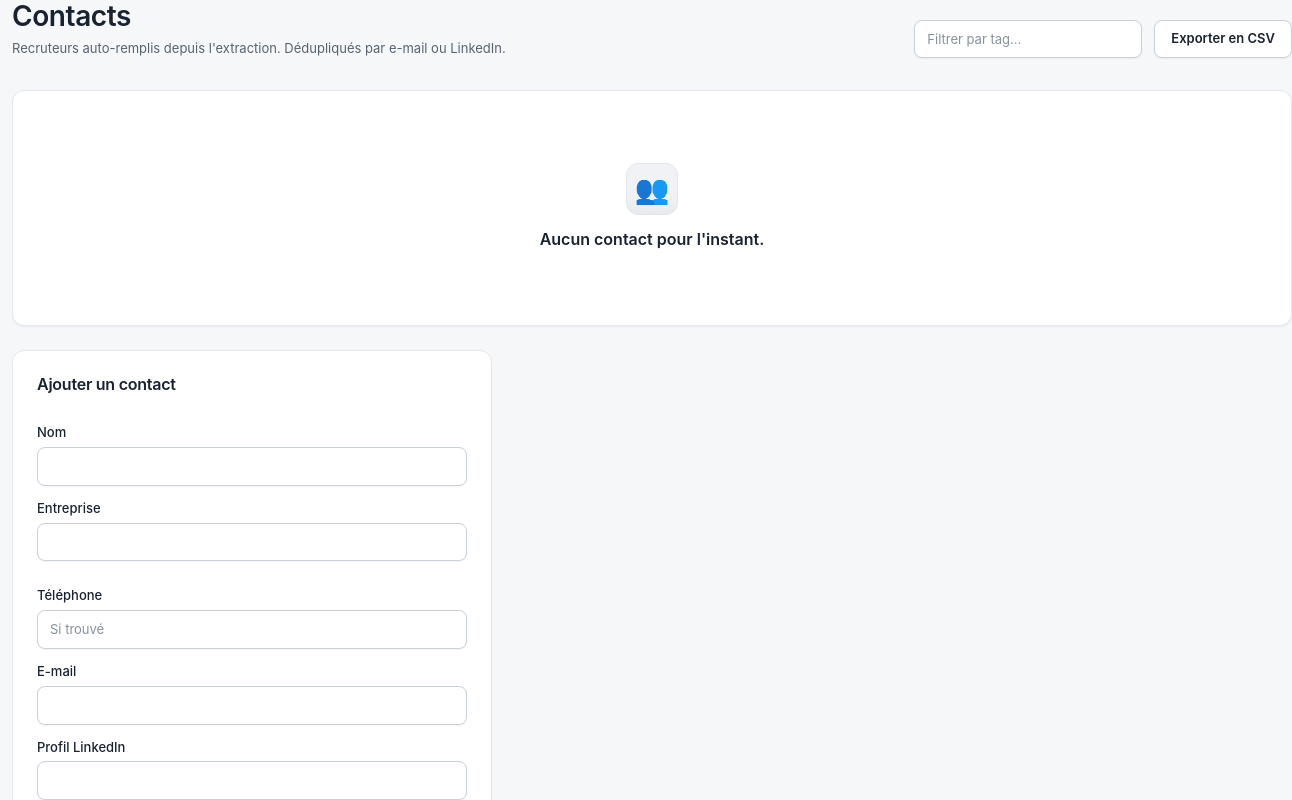
Test: ContactsPage › shows a merge confirmation when adding a contact upserts an existing one
The width and height of the screenshot is (1292, 800).
Expected: the text "Aucun contact pour l'instant." is shown, 540,227 -> 764,253
Step 1. Type "Jane Doe" into the field labelled "Nom" → (252, 466), box 37,447 -> 467,486
(page scrolled)
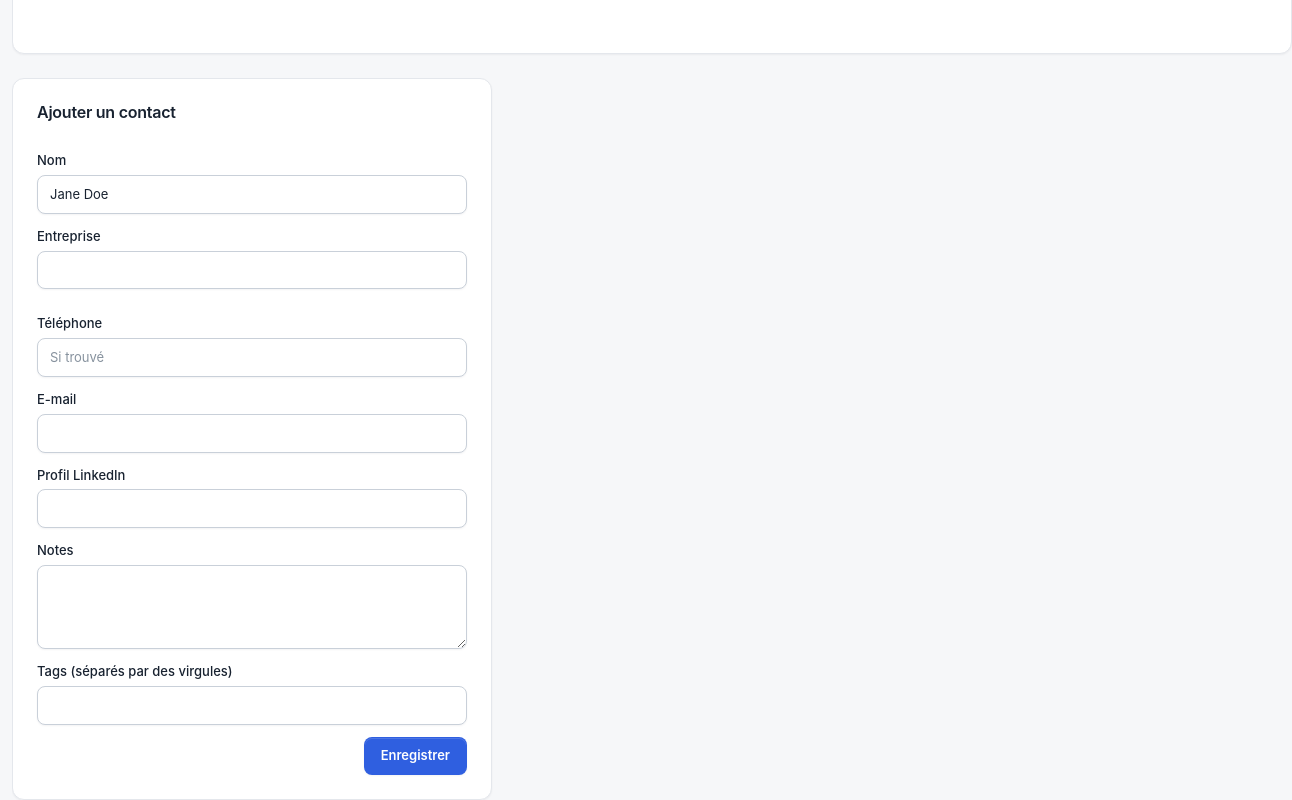
Step 2. Click the button "Enregistrer" → (415, 756), box 364,736 -> 467,774
(page scrolled)
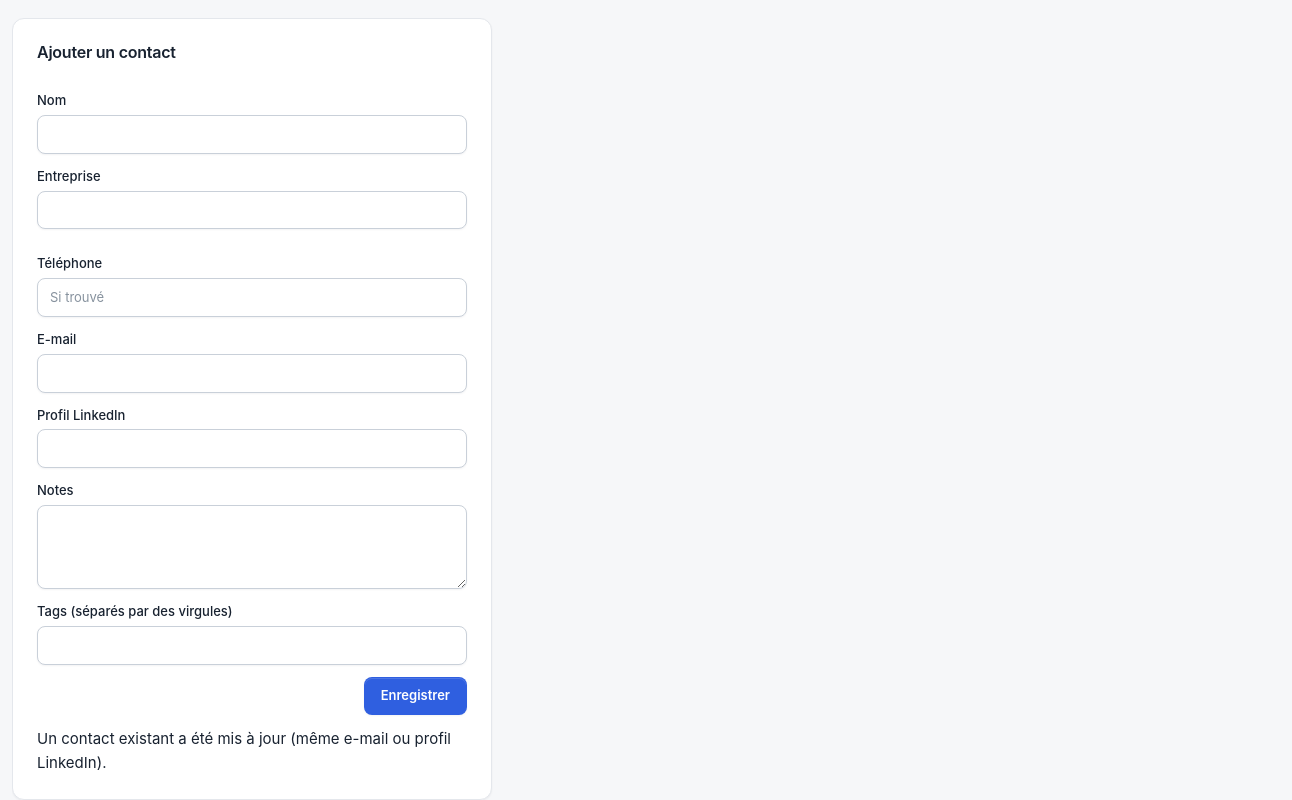
Result: the text "Un contact existant a été mis à jour (même e-mail ou profil LinkedIn)." is shown at 37,726 -> 467,774
